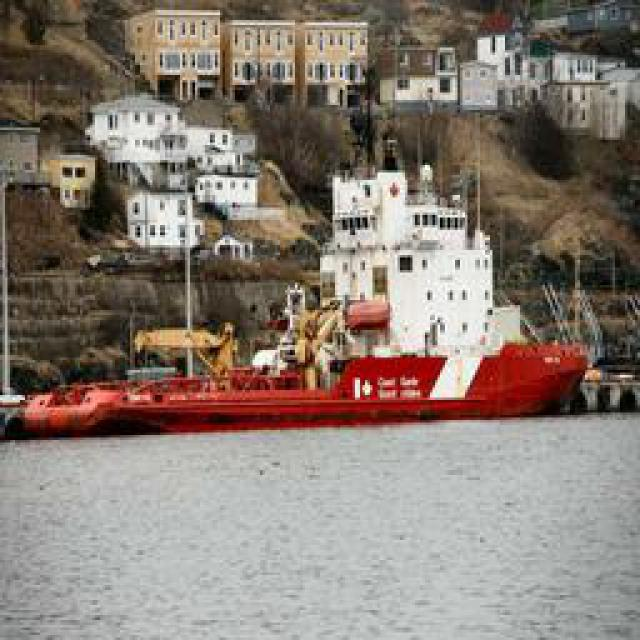Ship: (17, 347, 595, 435)
